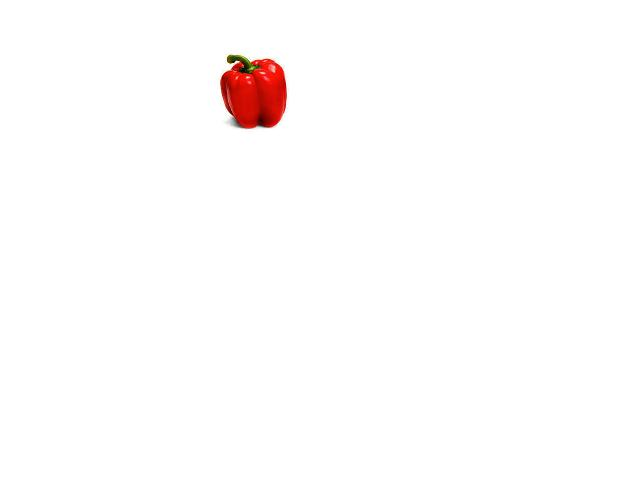bell_pepper: (220, 53, 288, 129)
